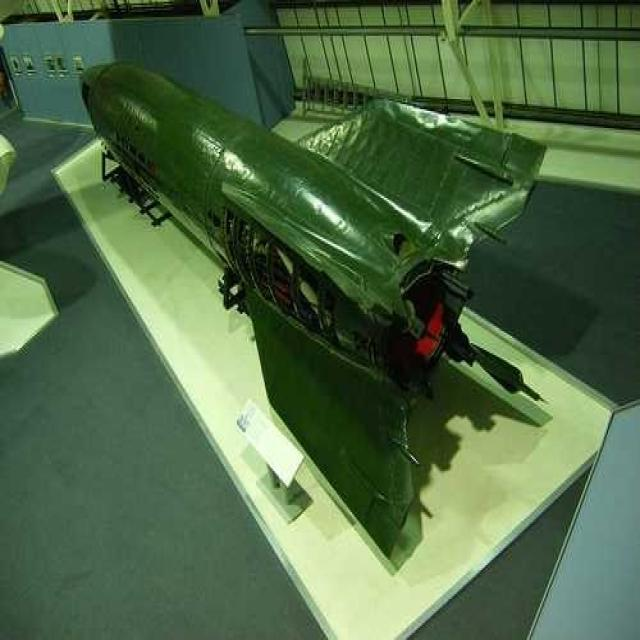missile: (76, 54, 546, 573)
